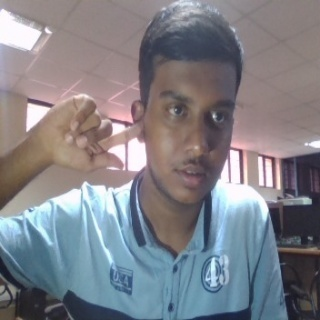Deaf: (24, 91, 144, 177)
Face: (126, 3, 245, 211)
